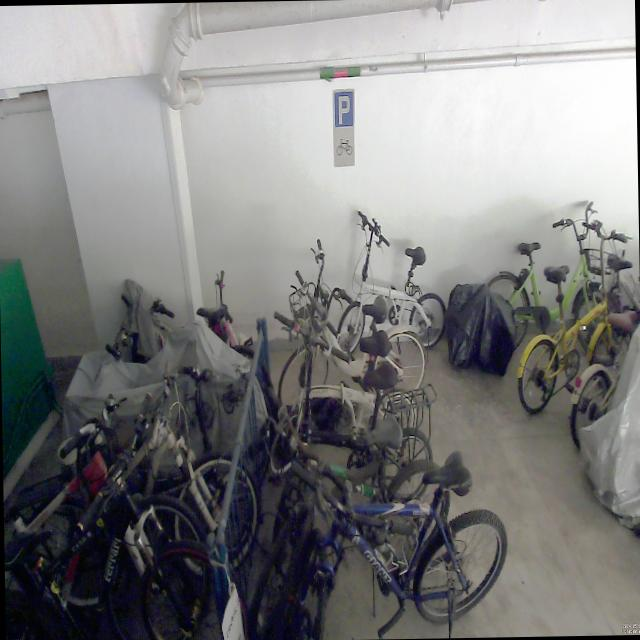bike: (2, 390, 214, 639), (27, 362, 258, 590), (243, 447, 507, 640), (269, 393, 453, 563), (275, 234, 426, 403), (267, 307, 418, 474), (513, 216, 640, 412), (482, 198, 620, 368), (335, 207, 448, 355)
